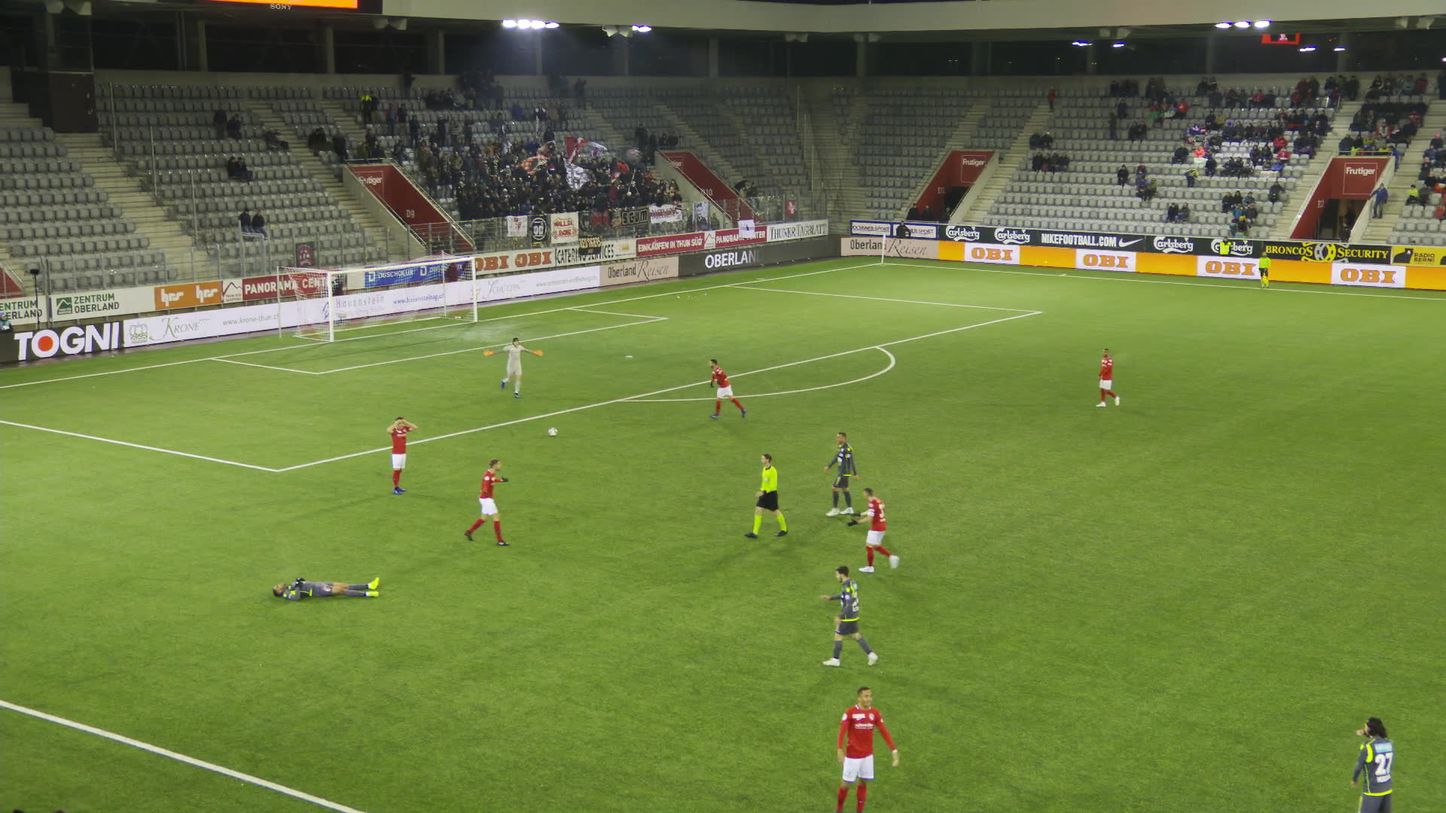ball: (546, 427, 557, 437)
player: (824, 683, 901, 812), (815, 556, 881, 671), (1340, 711, 1396, 812), (848, 479, 902, 580), (462, 454, 514, 550), (268, 565, 386, 606), (479, 330, 545, 394), (822, 428, 866, 519), (380, 413, 419, 497), (702, 358, 749, 426), (1091, 344, 1119, 409)
referee: (746, 446, 793, 544), (1255, 249, 1271, 291)
